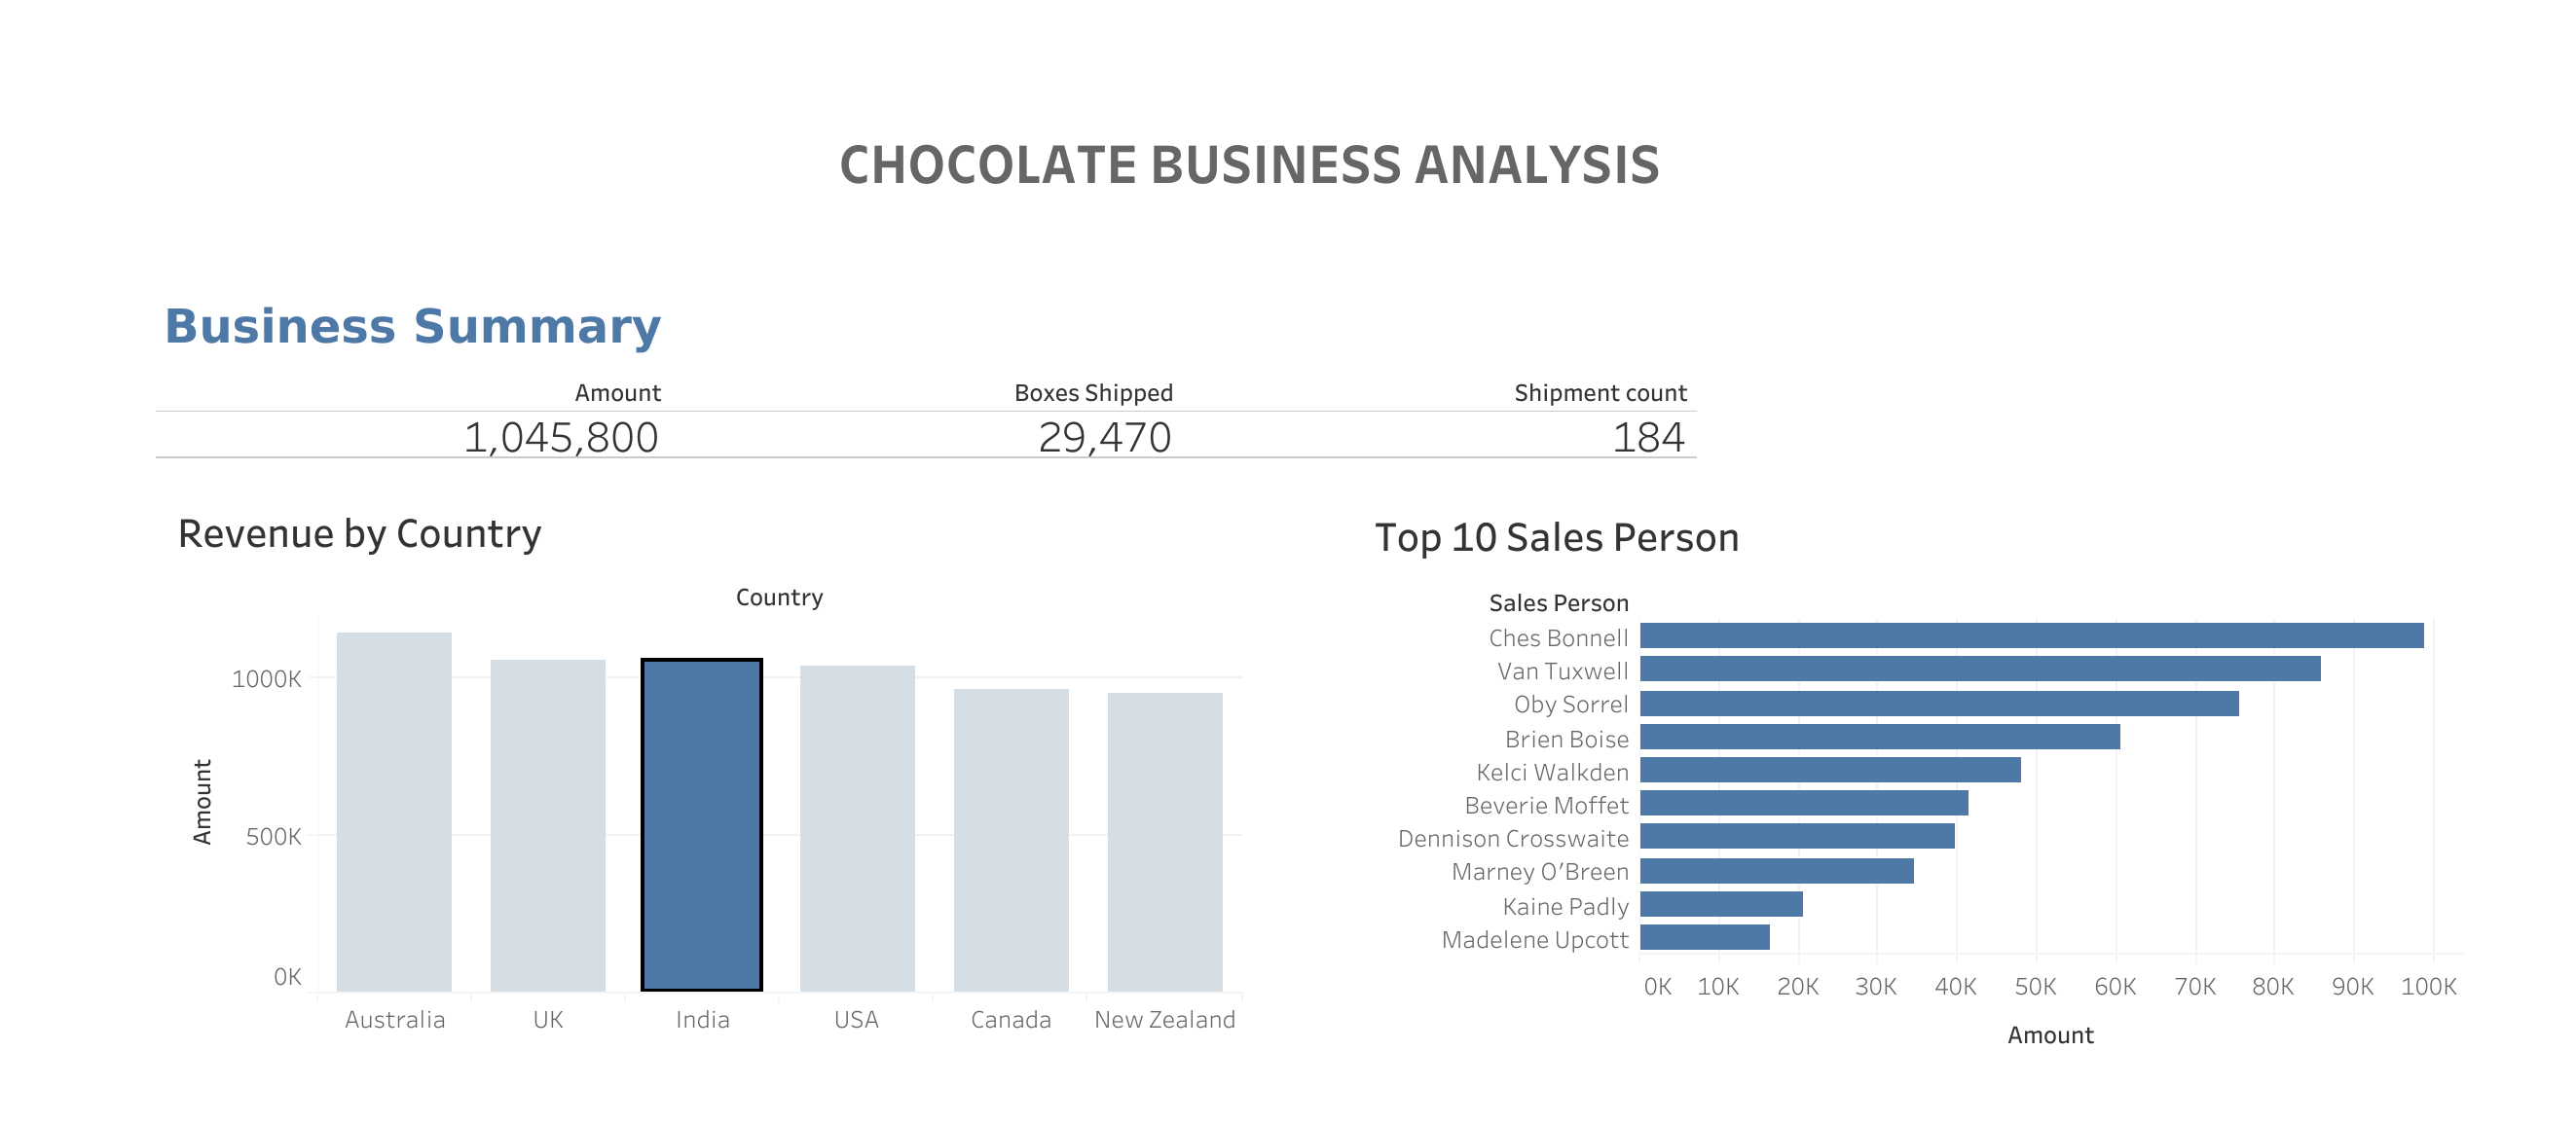

This screenshot's page, from the dashboard's own definition file:
{"tool":"tableau","page":{"name":"Dashboard 1","canvas":[1000,1000],"units":"permille","ordinal":0},"visuals":[{"type":"text","box":[22.8,71.1,924.3,143.7]},{"type":"worksheet","title":"Sheet 3","mark":"Automatic","box":[60.2,253.5,598.1,154.6]},{"type":"worksheet","title":"Sheet 1","mark":"Automatic","rows":["Amount"],"cols":["Country"],"box":[65.9,437.4,415.8,514.7]},{"type":"worksheet","title":"Sheet 2","mark":"Automatic","rows":["Sales Person"],"cols":["Amount"],"box":[530.5,442,424.7,503.9]}]}

Visuals, with their boxes on the dashboard's canvas, which has no fixed pixel size, in thousandths of its width and height (x1, y1, x2, y2). These are canvas units, not pixel positions in the 2576x1123 screenshot, which may show the page scaled, cropped or inside an application window:
text: x1=23 y1=71 x2=947 y2=215
"Sheet 3" worksheet: x1=60 y1=254 x2=658 y2=408
"Sheet 1" worksheet: x1=66 y1=437 x2=482 y2=952
"Sheet 2" worksheet: x1=530 y1=442 x2=955 y2=946
